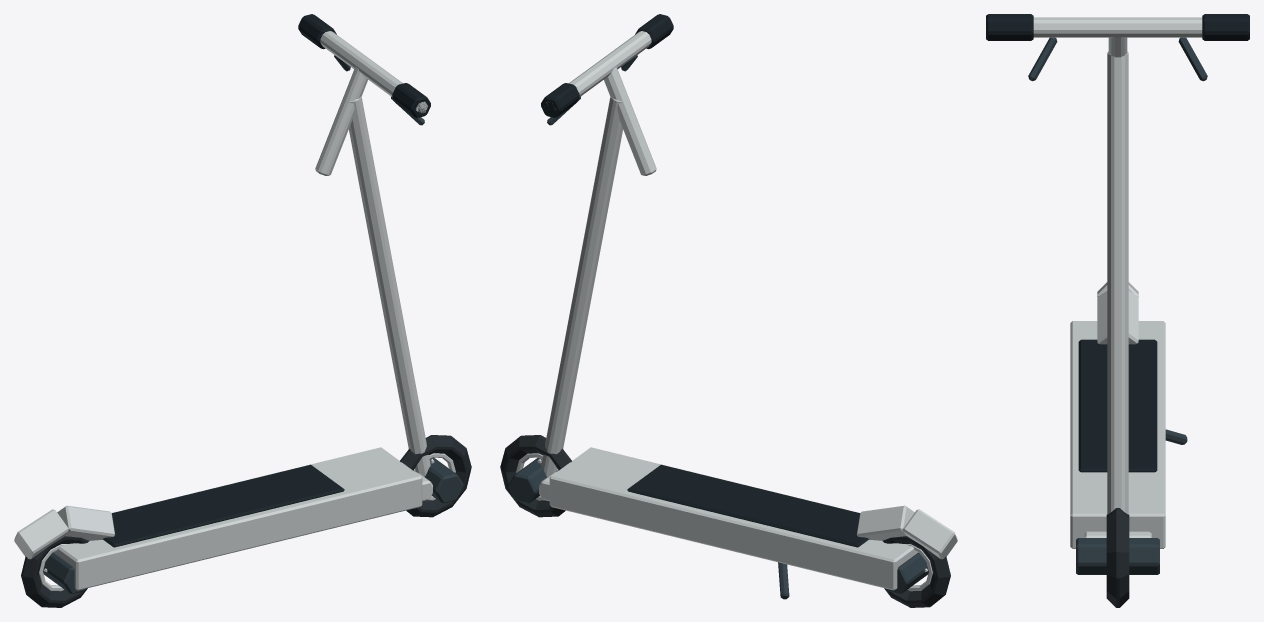
File: b03_folding_kick_scooter.glb
3 renders of one model, left to right at view 1: azimuth 30°, elevation 25°; view 2: azimuth 150°, elevation 25°; view 3: azimuth 270°, elevation 25°, orthographic. The views are drawn at different scales.
Visible parts, largest first — view 1: b03_folding_kick_scooter; view 2: b03_folding_kick_scooter; view 3: b03_folding_kick_scooter.
Boxes of the visible parts, x1,y1,x2,y2 form: b03_folding_kick_scooter: (14, 14, 471, 607); b03_folding_kick_scooter: (500, 14, 957, 607); b03_folding_kick_scooter: (986, 14, 1249, 607).
Bounding box in the file's own units: 1.07 × 1.08 × 0.47.
